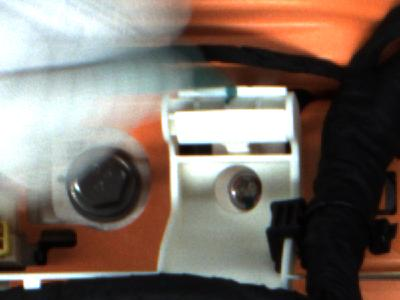nut_b: (59, 136, 147, 234)
